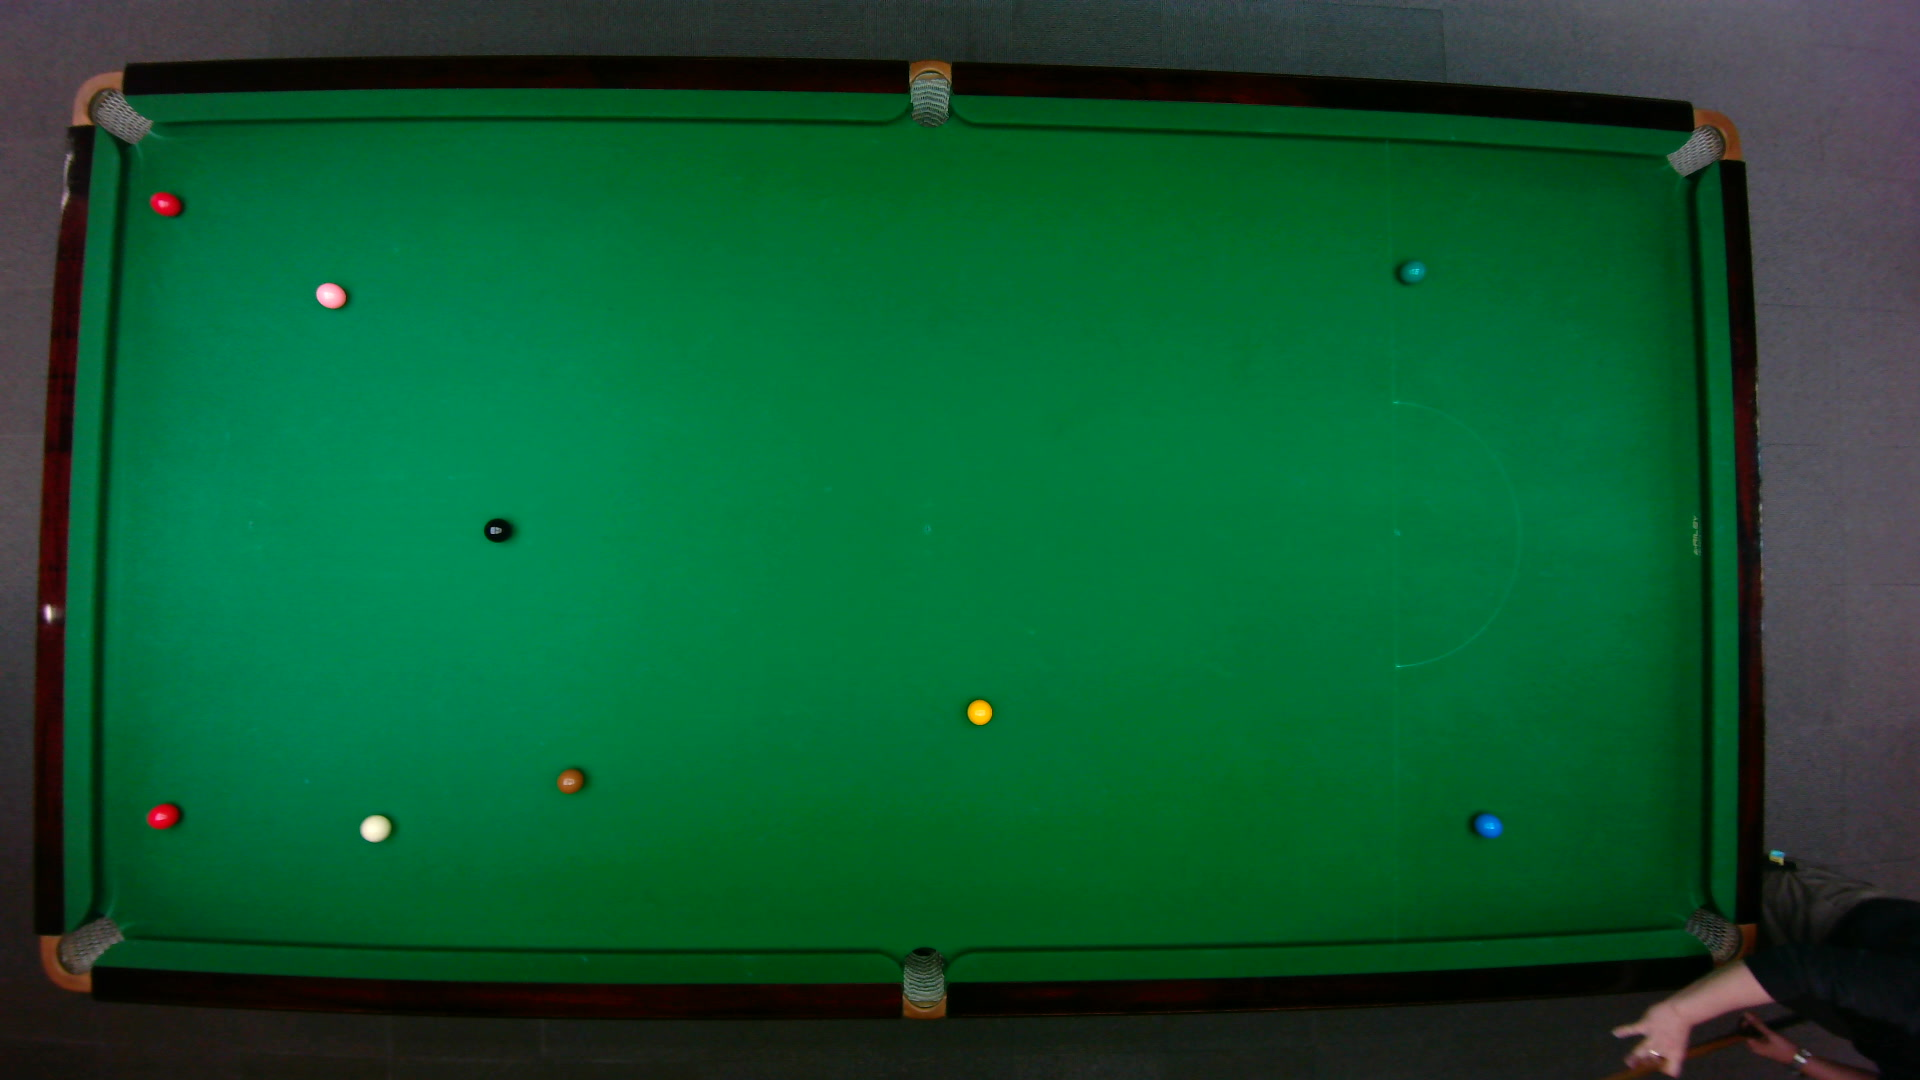bag: (37, 913, 127, 992), (69, 70, 152, 144), (1663, 107, 1741, 178), (1680, 905, 1756, 965), (901, 944, 945, 1021), (909, 57, 949, 128)
black: (483, 516, 512, 543)
blue: (1472, 811, 1503, 839)
brown: (555, 766, 584, 794)
green: (1396, 258, 1425, 284)
pink: (313, 280, 347, 309)
red: (144, 800, 179, 829), (148, 190, 182, 216)
white: (357, 811, 393, 843)
yellow: (964, 696, 993, 727)
zone: (1390, 400, 1520, 669)
